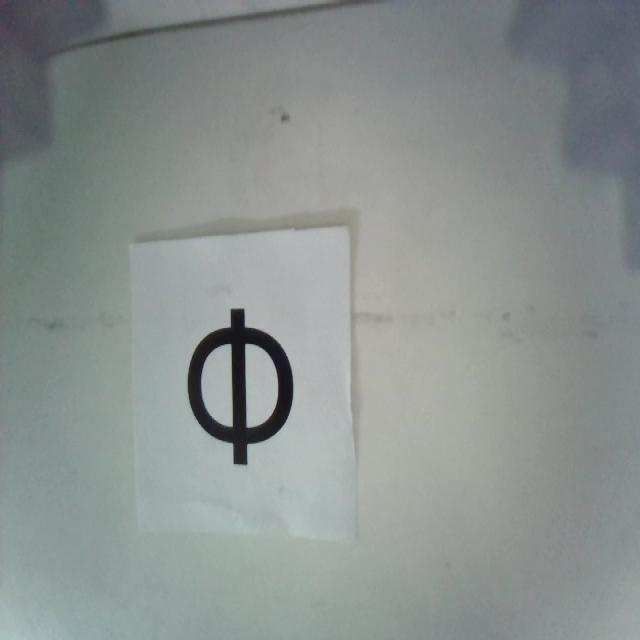F: (187, 306, 296, 467)
